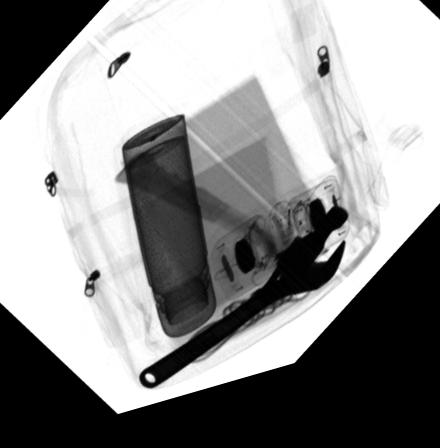Hammer: (114, 158, 347, 311)
Wrench: (137, 249, 343, 396)
